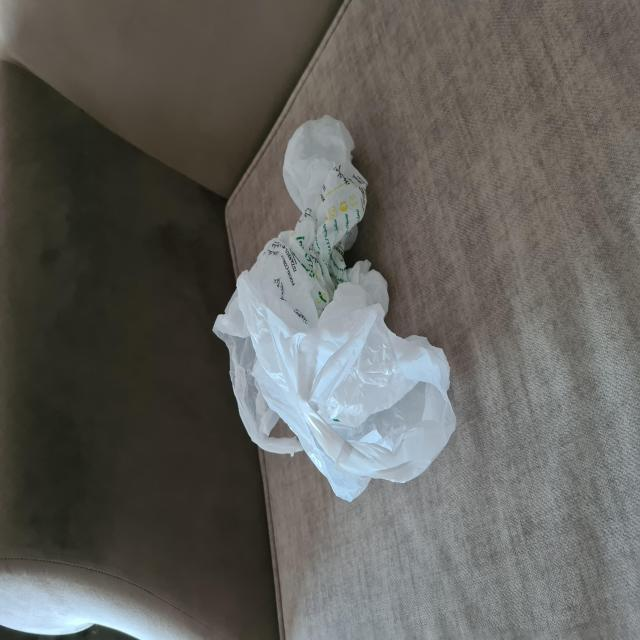plastic bag: (210, 113, 458, 505)
